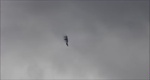maybay_muctieu: (63, 34, 70, 46)
